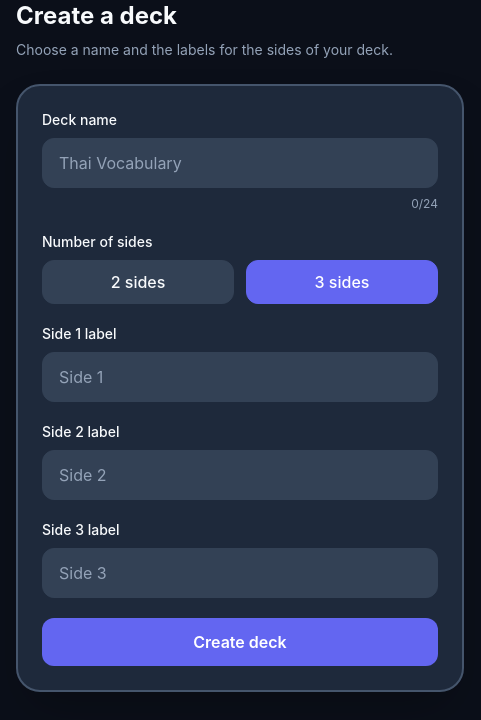
Scenario: DeckEditView › keeps the user on the editor when activating the saved deck fails
The width and height of the screenshot is (481, 720).
Type "Thai" into the field with id "deck-name" at {"x": 240, "y": 163}, box [42, 138, 438, 188]
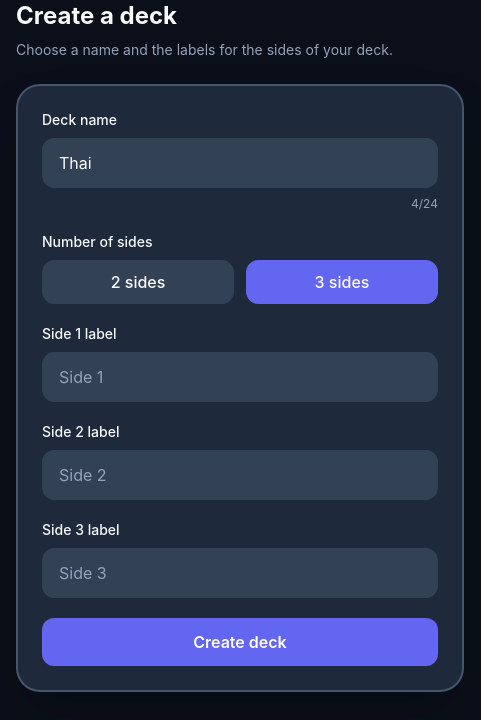
Type "Script" into the field with id "side-label-1" at {"x": 240, "y": 377}, box [42, 352, 438, 402]
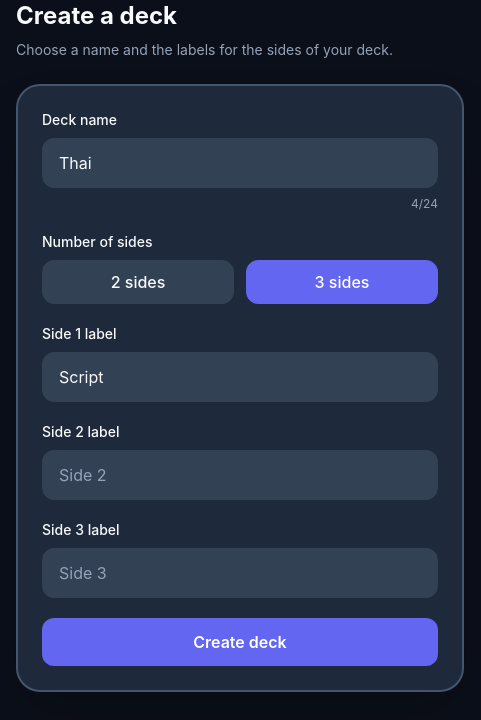
Type "Meaning" into the field with id "side-label-2" at {"x": 240, "y": 475}, box [42, 450, 438, 500]
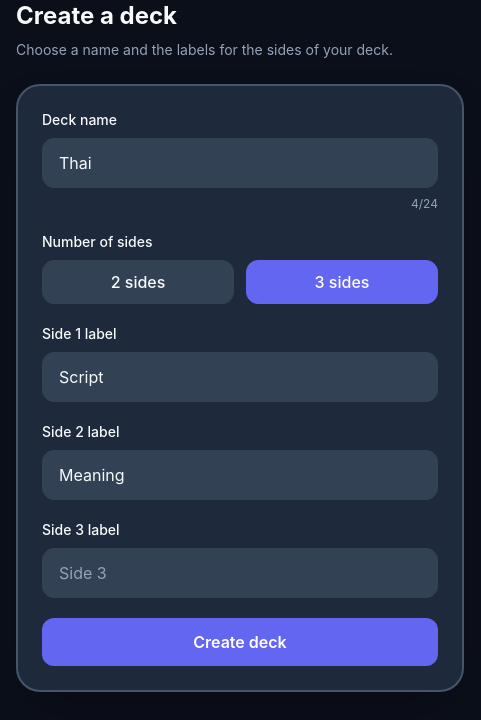
Type "Thai" into the field with id "side-label-3" at {"x": 240, "y": 573}, box [42, 548, 438, 598]
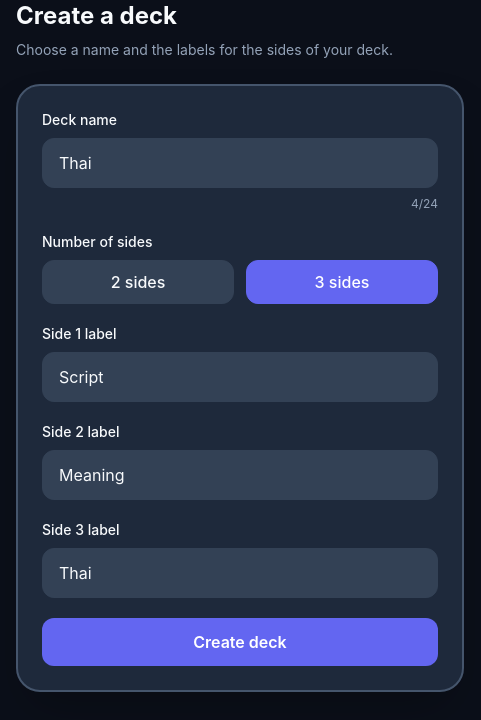
Submit the form
(page scrolled)
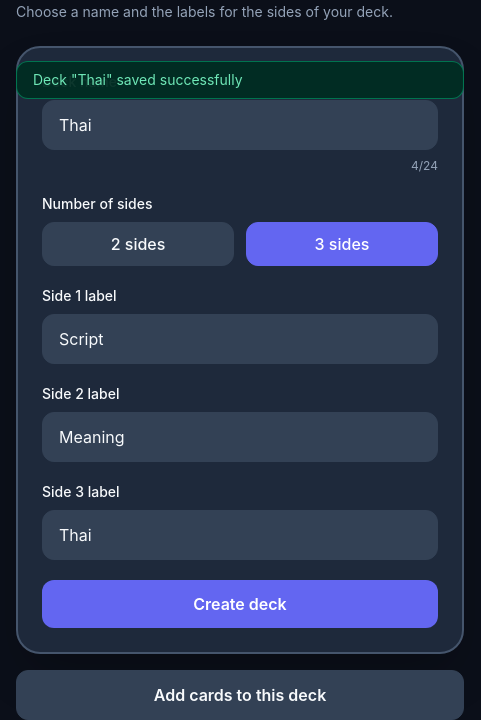
Click the button "Add cards to this deck" at {"x": 240, "y": 695}, box [16, 670, 464, 719]
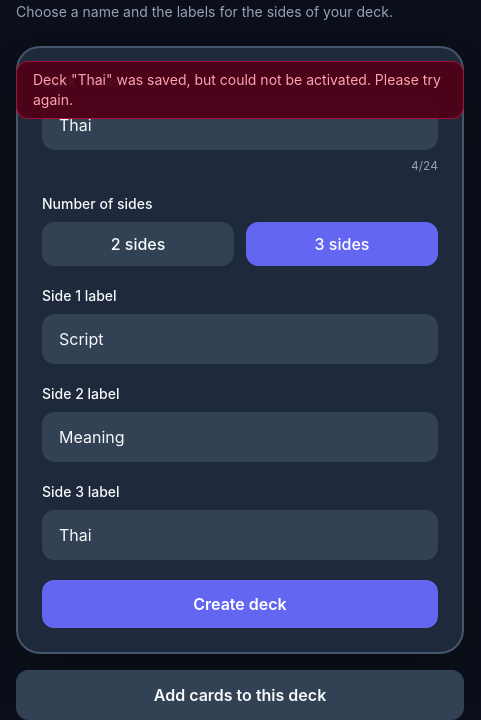
Expected: the element with class "feedback-banner" is shown, [16, 61, 464, 119]
Expected: the message "Deck \"Thai\" was saved, but could not be activated. Please try again." is shown, [33, 70, 447, 110]
